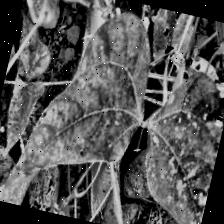ALS: (17, 0, 168, 189), (122, 62, 224, 224), (6, 10, 60, 82), (24, 160, 70, 214), (0, 152, 35, 207)
